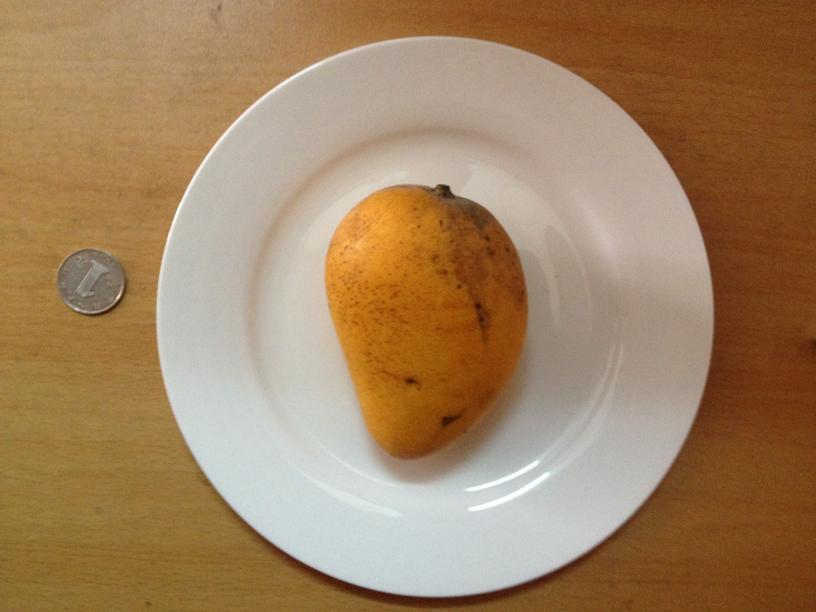coin: (53, 248, 125, 315)
mango: (324, 186, 526, 459)
